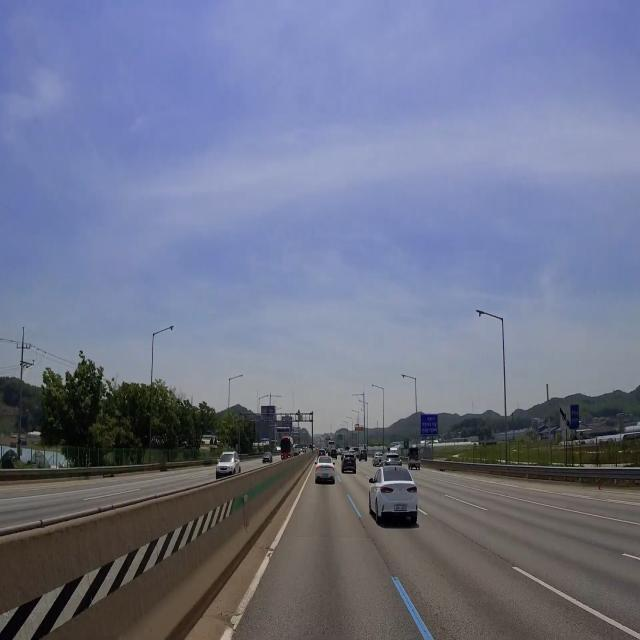car: (394, 501, 409, 515), (344, 457, 355, 471), (319, 470, 330, 480), (219, 468, 229, 477)
